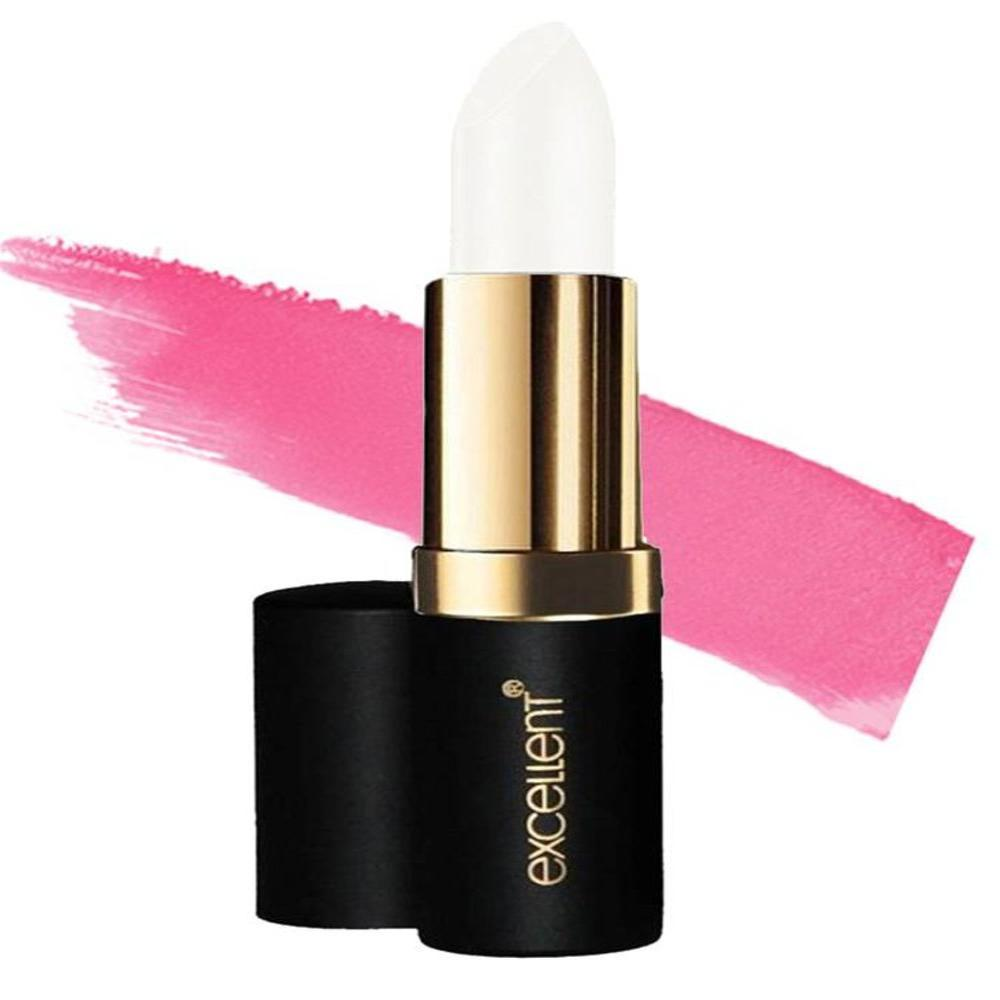lipstick: (388, 21, 667, 942)
